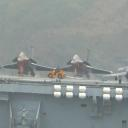Portanaves: (2, 35, 128, 100)
